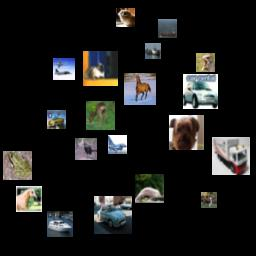airplane: (53, 58, 75, 80), (108, 135, 127, 154)
automobile: (94, 196, 132, 234), (183, 74, 218, 109), (47, 110, 66, 129)
bird: (135, 174, 164, 203), (75, 138, 97, 160), (196, 53, 215, 72)
cat: (83, 51, 118, 86)
deer: (86, 101, 115, 130)
dog: (169, 115, 204, 150), (116, 8, 135, 27), (201, 192, 217, 208)
frog: (3, 151, 32, 180)
ship: (47, 211, 73, 237), (158, 19, 177, 38), (145, 43, 161, 59)
truck: (212, 137, 250, 175)
